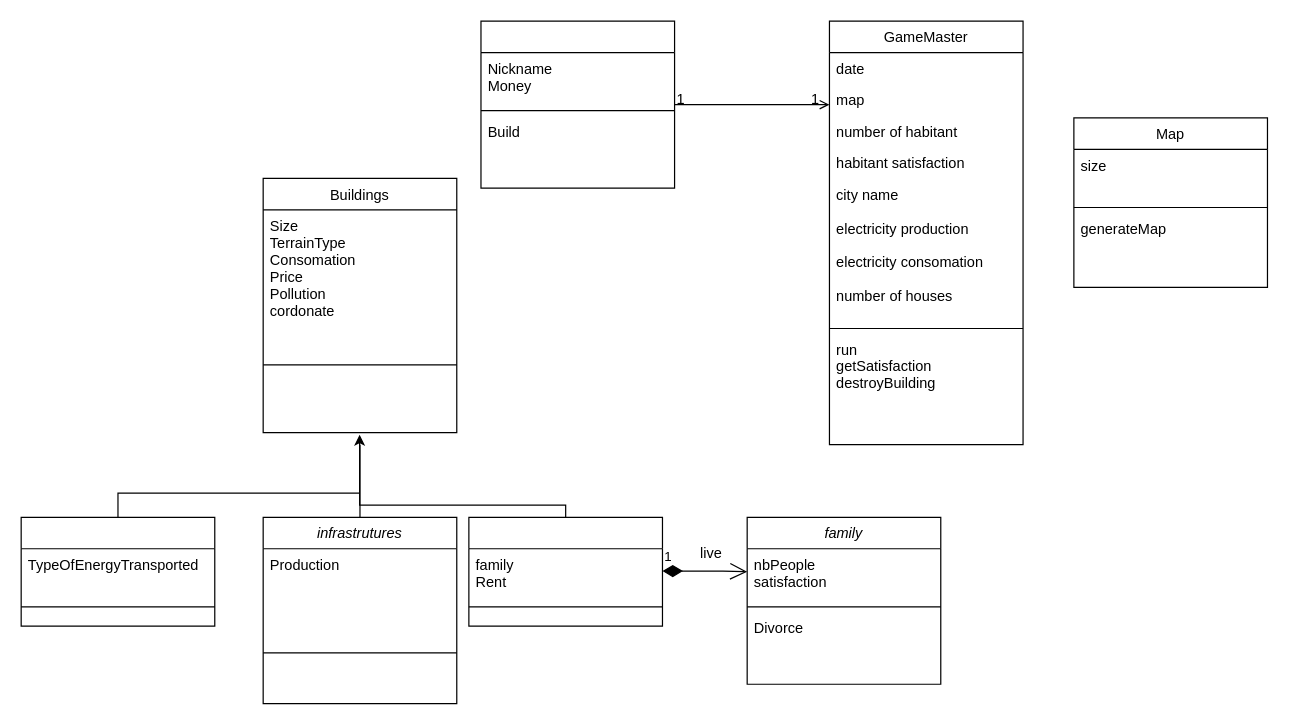
Some shapes in this 1289 by 725 pixel diagram are drawn without their labels. The shapes that lost their labels are listed below. From the top down, each one's box as (x1, y1, x2, y2) in pixels, then its label:
(480, 20, 675, 188): Player
(20, 516, 215, 626): pipe
(468, 516, 662, 626): house
